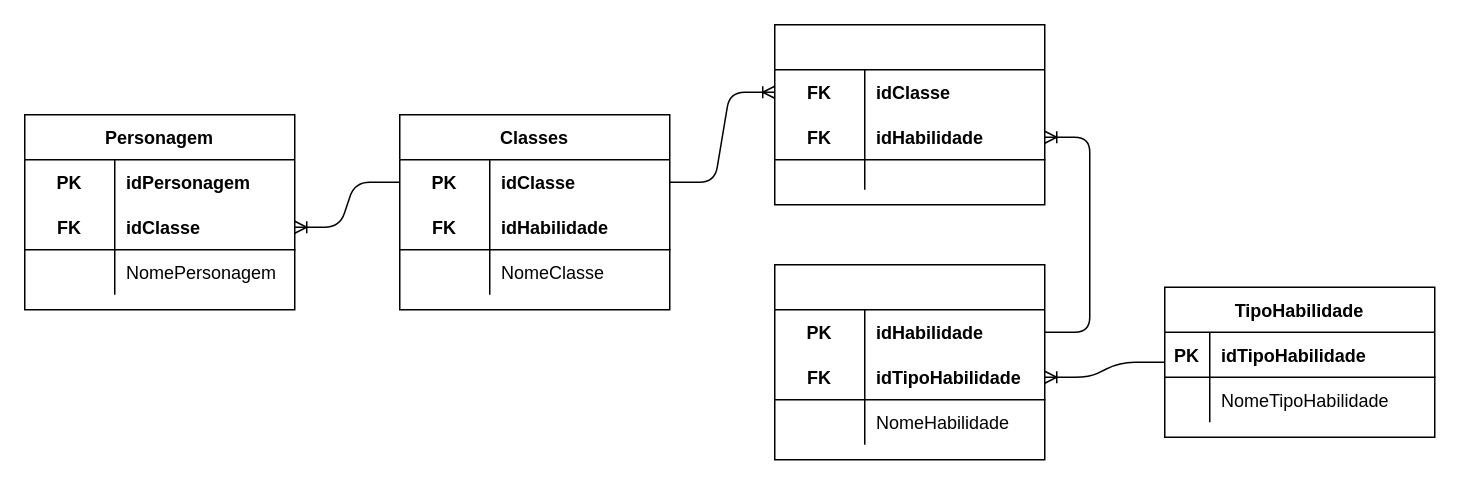
The diagram is 1460 pixels wide and 485 high, and some of its shapes have lost their labels. The shapes that lost their labels are listed below. From the top down, each one's box as (x1, y1, x2, y2) in pixels, then its label:
(773, 23, 1045, 205): HabilidadeClasse
(773, 263, 1045, 460): Habilidades
